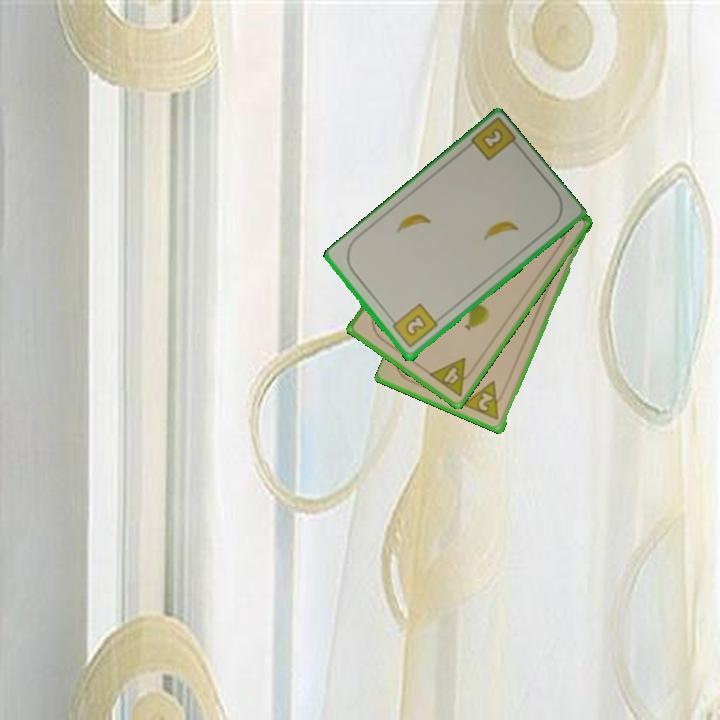2b: (387, 300, 440, 351), (478, 125, 506, 153)
2p: (461, 377, 508, 423)
4p: (425, 354, 479, 399)
